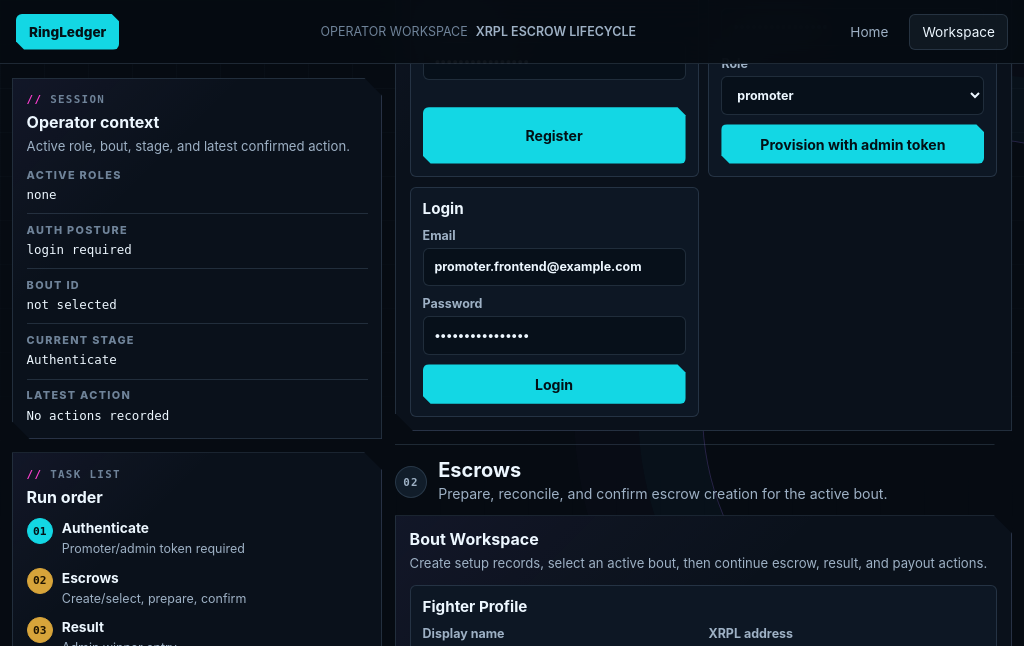
Test: App › shows deterministic API error message
(page scrolled)
Click the button with test id "login-submit". click: (554, 384)
box: [423,364,686,404]
(page scrolled)
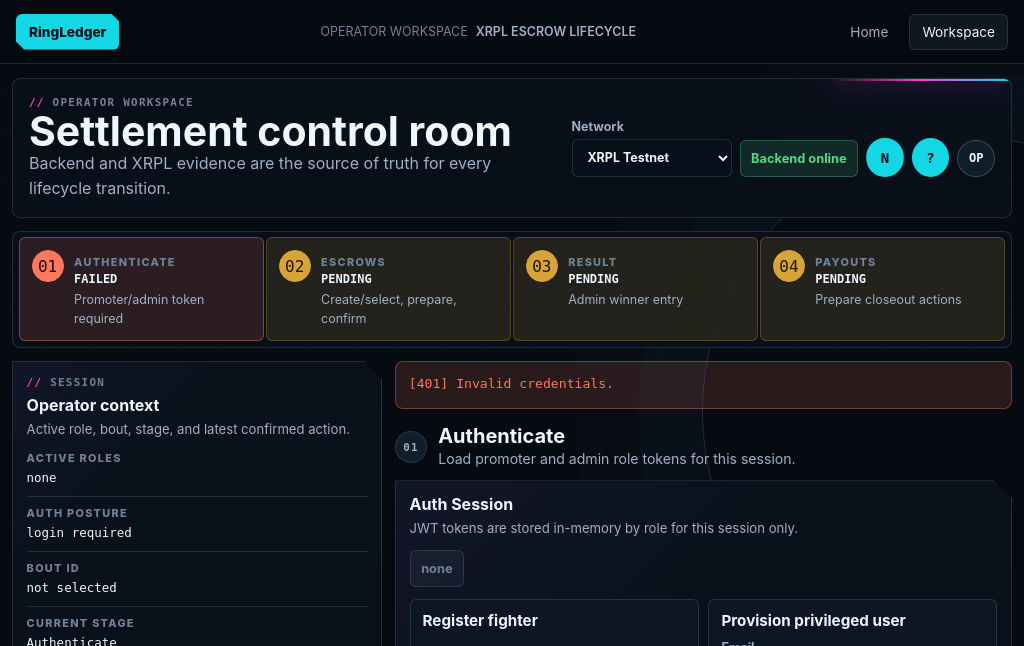
Now the text "[401] Invalid credentials." is shown, box [395,361,1012,408]
